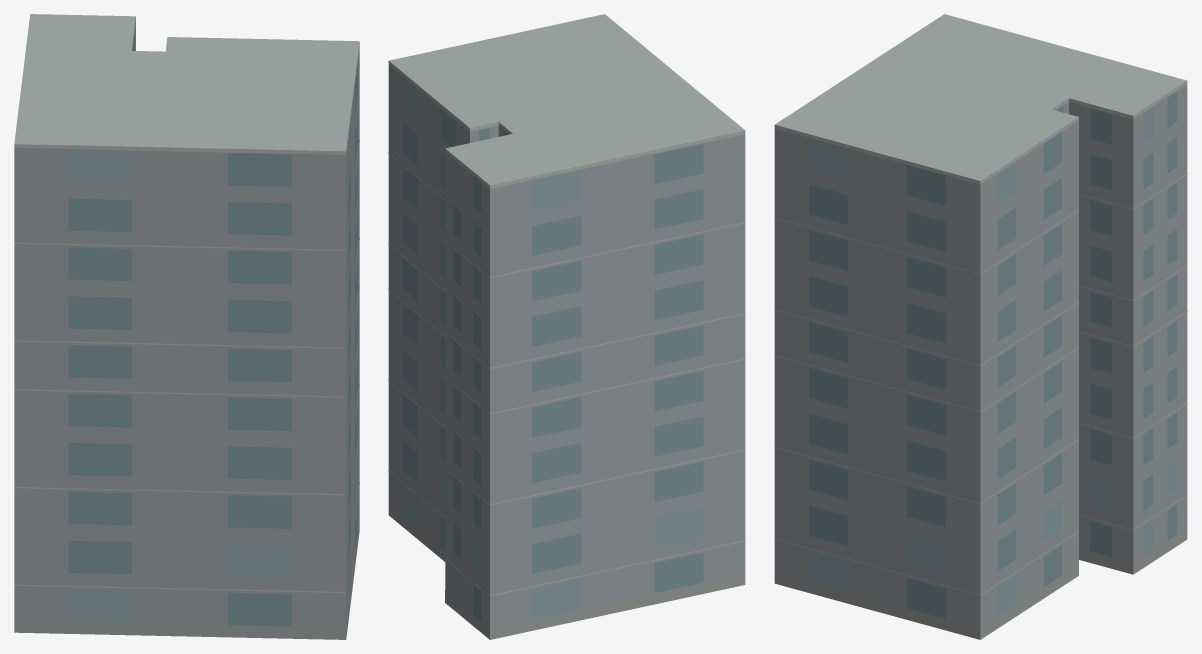
Rendered from residential-915e0831-d338-4d1c-9660-30c4ddcae545.glb.
3 renders of one model, left to right at view 1: azimuth 30°, elevation 25°; view 2: azimuth 150°, elevation 25°; view 3: azimuth 270°, elevation 25°, orthographic. The views are drawn at different scales.
Parts seen in each view (by area): view 1: residential-915e0831-d338-4d1c-9660-30c4ddcae545.tmp; view 2: residential-915e0831-d338-4d1c-9660-30c4ddcae545.tmp; view 3: residential-915e0831-d338-4d1c-9660-30c4ddcae545.tmp.
Part boxes in pixels (x1,y1,x2,y2): residential-915e0831-d338-4d1c-9660-30c4ddcae545.tmp: (14, 14, 359, 639); residential-915e0831-d338-4d1c-9660-30c4ddcae545.tmp: (388, 14, 745, 639); residential-915e0831-d338-4d1c-9660-30c4ddcae545.tmp: (774, 14, 1187, 639).
Bounding box in the file's own units: 23.84 × 30.5 × 24.88.
